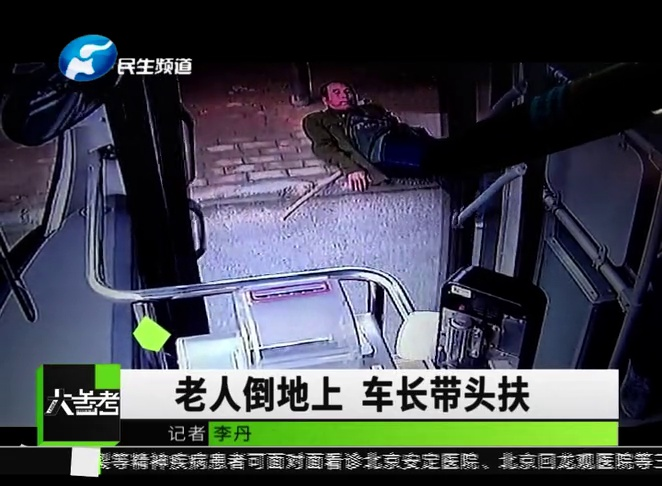fall: (301, 82, 451, 187)
